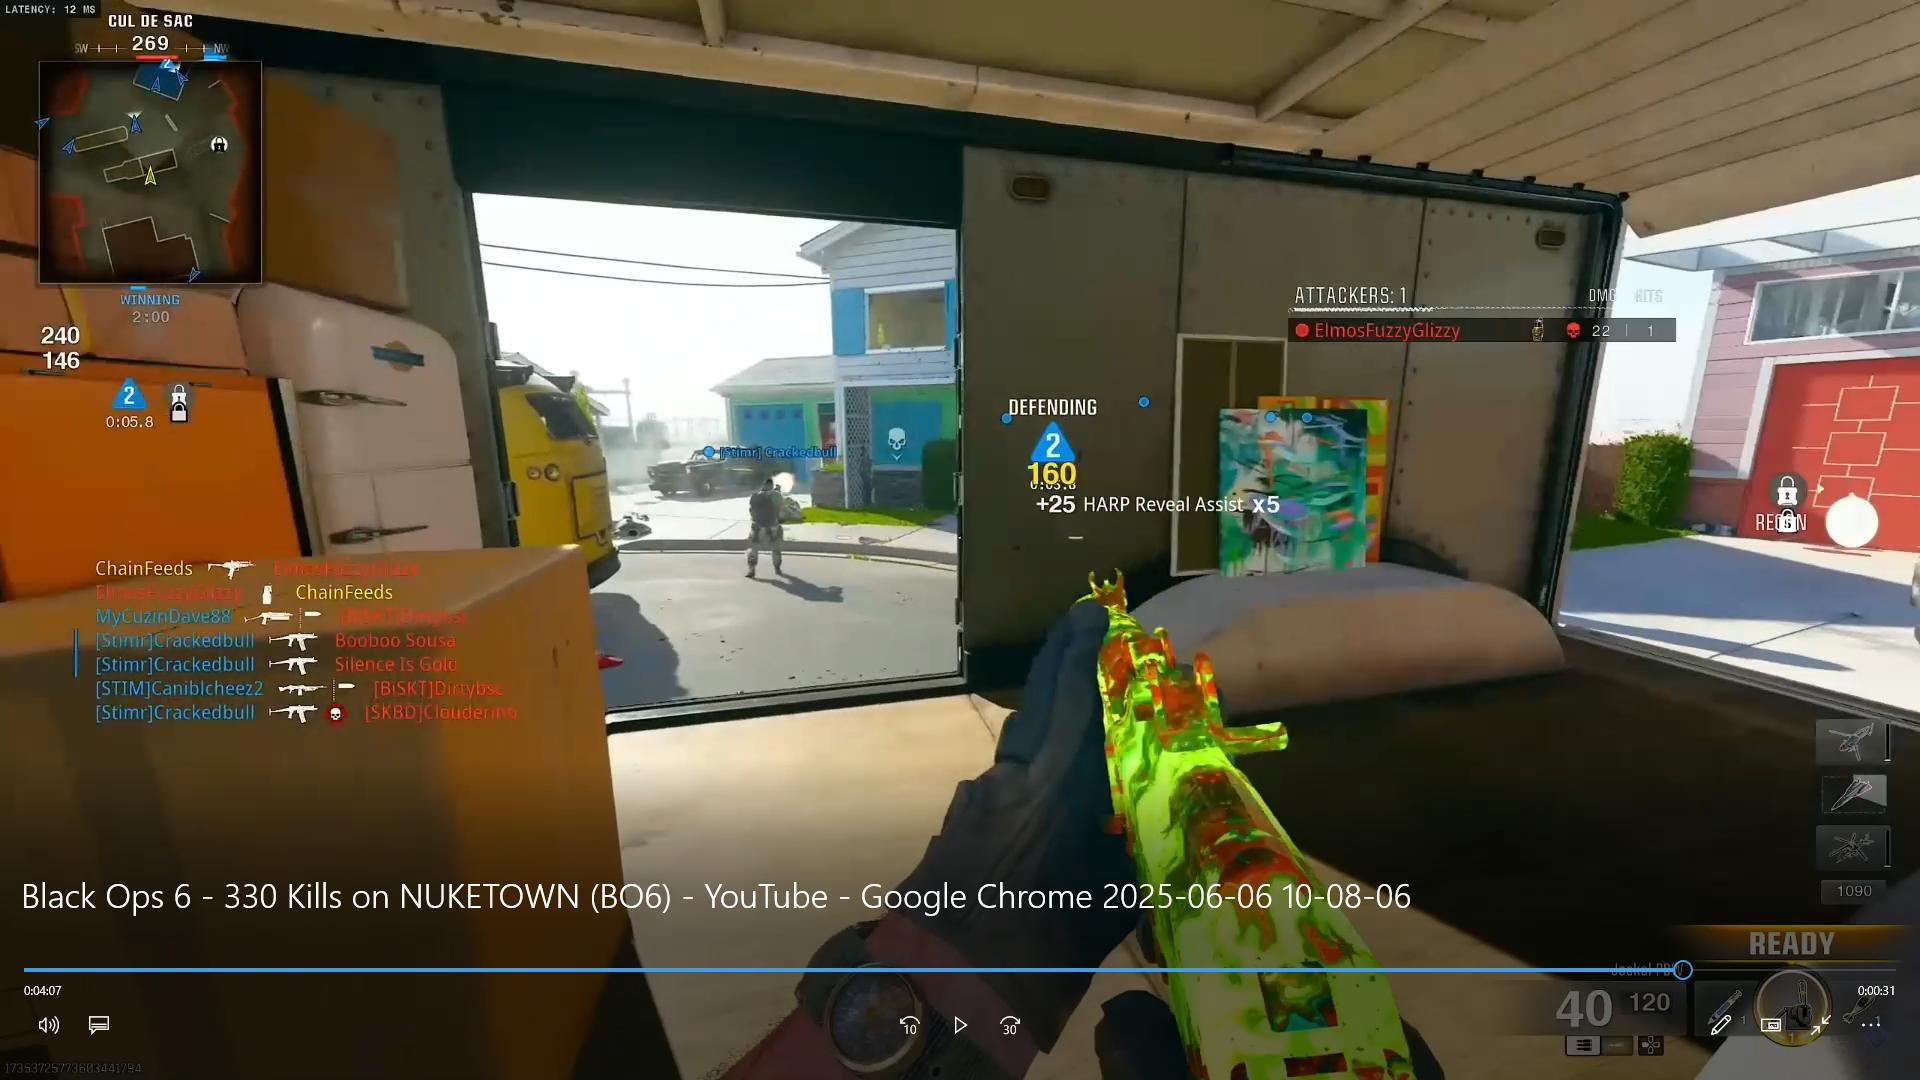Enemy: (732, 464, 803, 592)
